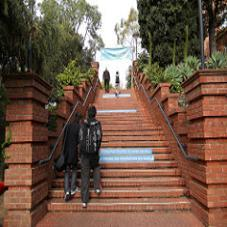Bench: (80, 96, 179, 207)
